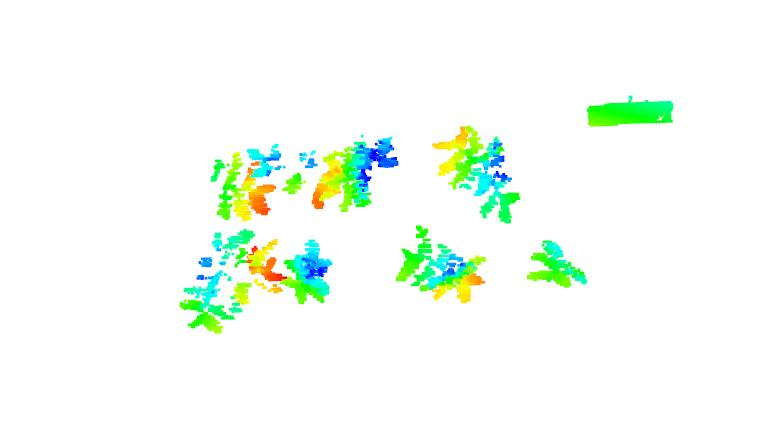chickpea: (174, 226, 285, 332), (430, 123, 521, 229), (394, 224, 486, 305), (312, 131, 401, 211), (208, 136, 275, 225), (243, 136, 321, 195), (281, 239, 337, 306), (522, 234, 588, 290)
